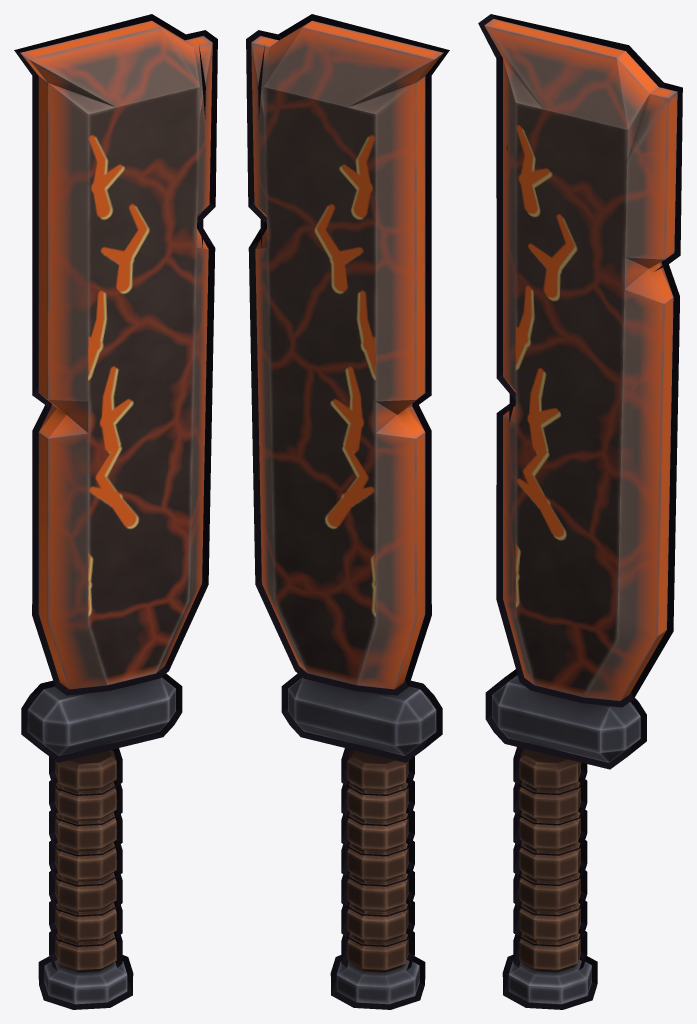
Rendered from LavaCleaver.fbx.
The picture shows the model from 3 angles, left to right: view 1: azimuth 30°, elevation 25°; view 2: azimuth 150°, elevation 25°; view 3: azimuth 330°, elevation 25°; orthographic projection.
Visible parts, largest first — view 1: LavaCleaver, LavaCleaverOutline; view 2: LavaCleaver, LavaCleaverOutline; view 3: LavaCleaver, LavaCleaverOutline.
Part boxes in pixels (x1,y1,x2,y2): LavaCleaver: [20, 20, 212, 1004]; LavaCleaverOutline: [14, 14, 217, 1009]; LavaCleaver: [251, 20, 443, 1004]; LavaCleaverOutline: [246, 14, 449, 1009]; LavaCleaver: [484, 19, 677, 1004]; LavaCleaverOutline: [478, 14, 682, 1009].
Bounding box in the file's own units: 72.02 × 346 × 31.92.
Materials: 2 (1 with a texture image).
